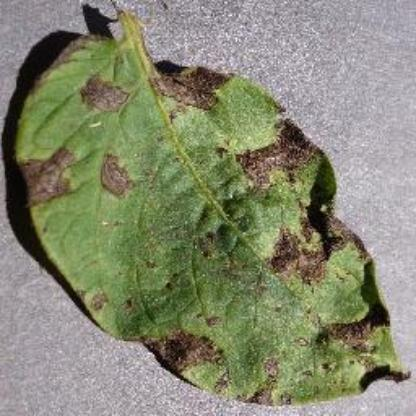Early-Blight: (11, 11, 408, 405)
